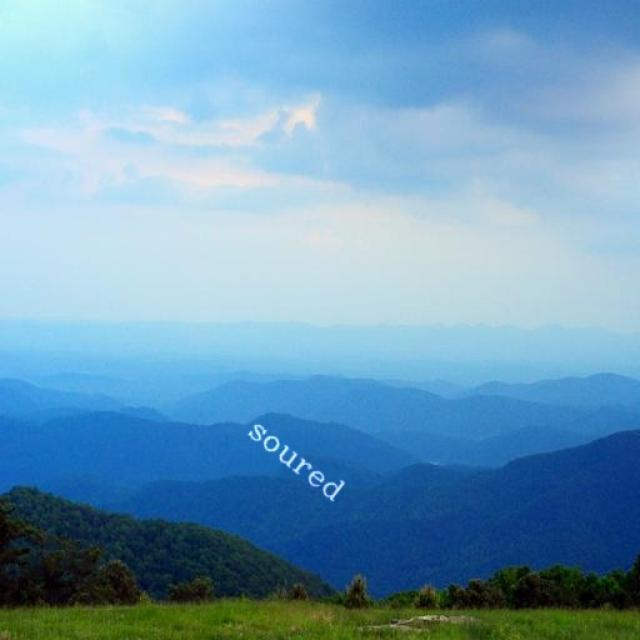watermark: (239, 410, 356, 508)
